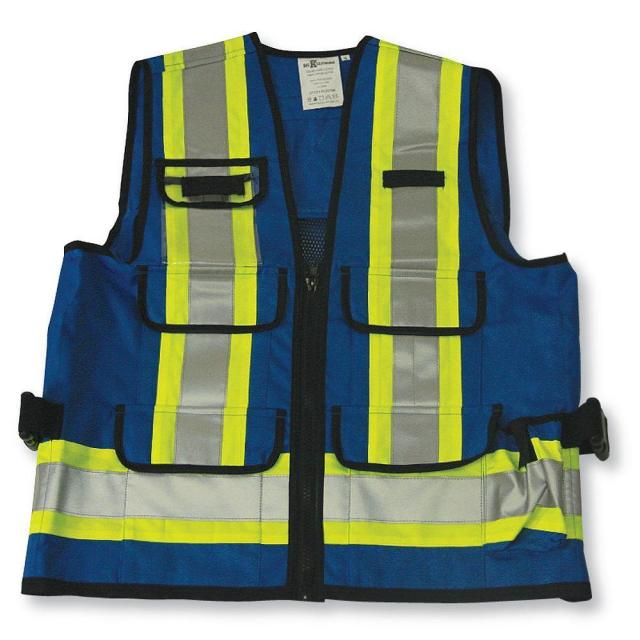Vest: (17, 33, 593, 601)
